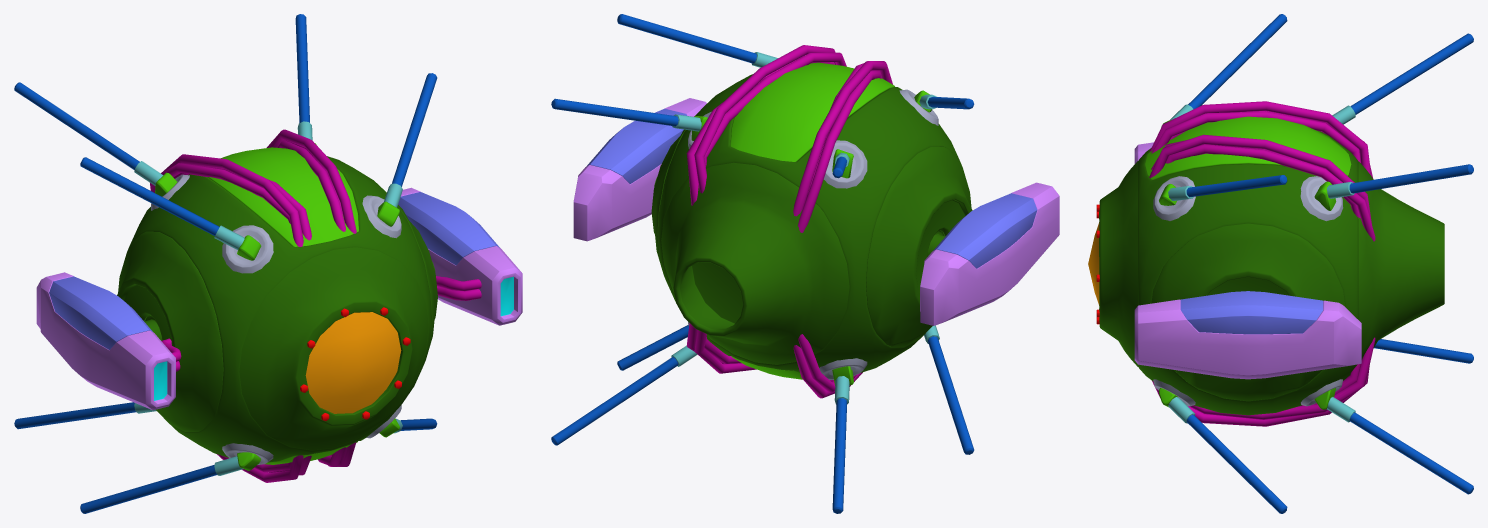
The model's file is EnemyDrone.fbx.
3 renders of one model, left to right at view 1: azimuth 30°, elevation 25°; view 2: azimuth 150°, elevation 25°; view 3: azimuth 270°, elevation 25°, orthographic. The views are drawn at different scales.
Parts seen in each view (by area): view 1: cable.002, Circle.004; view 2: cable.002, Circle.004; view 3: cable.002, Circle.004.
Boxes of the visible parts, x1=… form: cable.002: x1=36, y1=129, x2=522, y2=482; Circle.004: x1=14, y1=14, x2=437, y2=513; cable.002: x1=573, y1=45, x2=1059, y2=398; Circle.004: x1=551, y1=14, x2=974, y2=513; cable.002: x1=1088, y1=101, x2=1444, y2=426; Circle.004: x1=1138, y1=14, x2=1473, y2=513.
Size of the model in its own units: 492 by 427 by 440.
